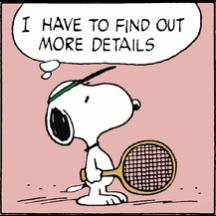snoopy: (44, 65, 177, 205)
